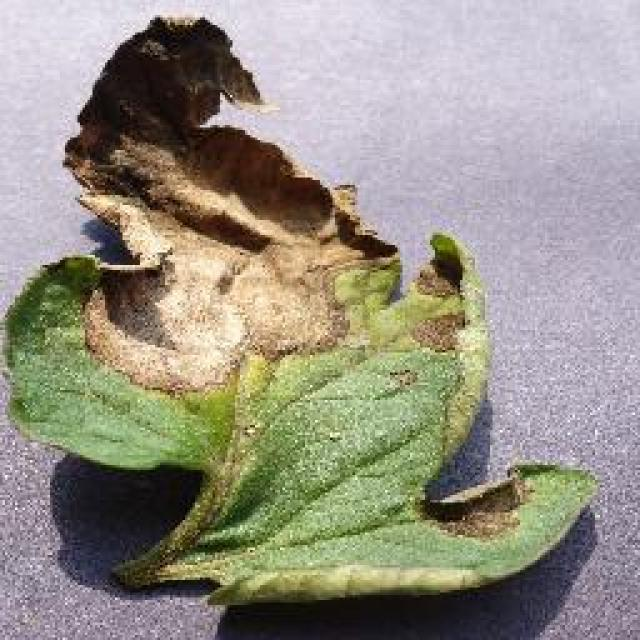Tomato Late Blight: (59, 4, 414, 388)
